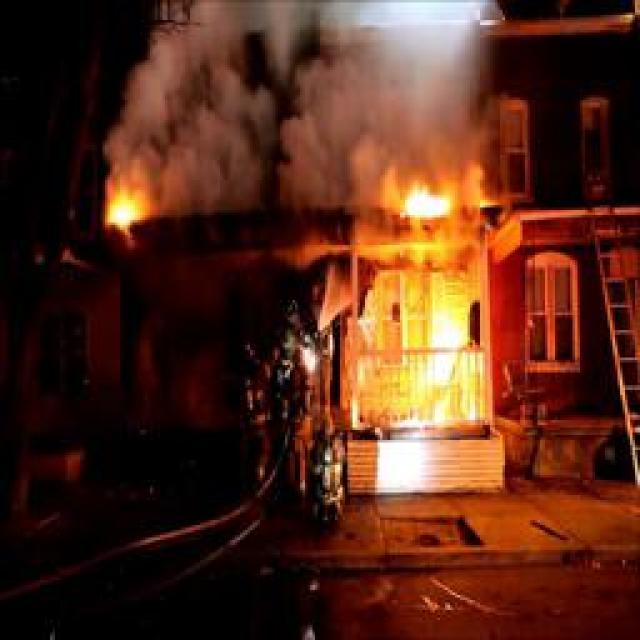Fire: (343, 186, 499, 439)
Smoke: (101, 0, 502, 219)
